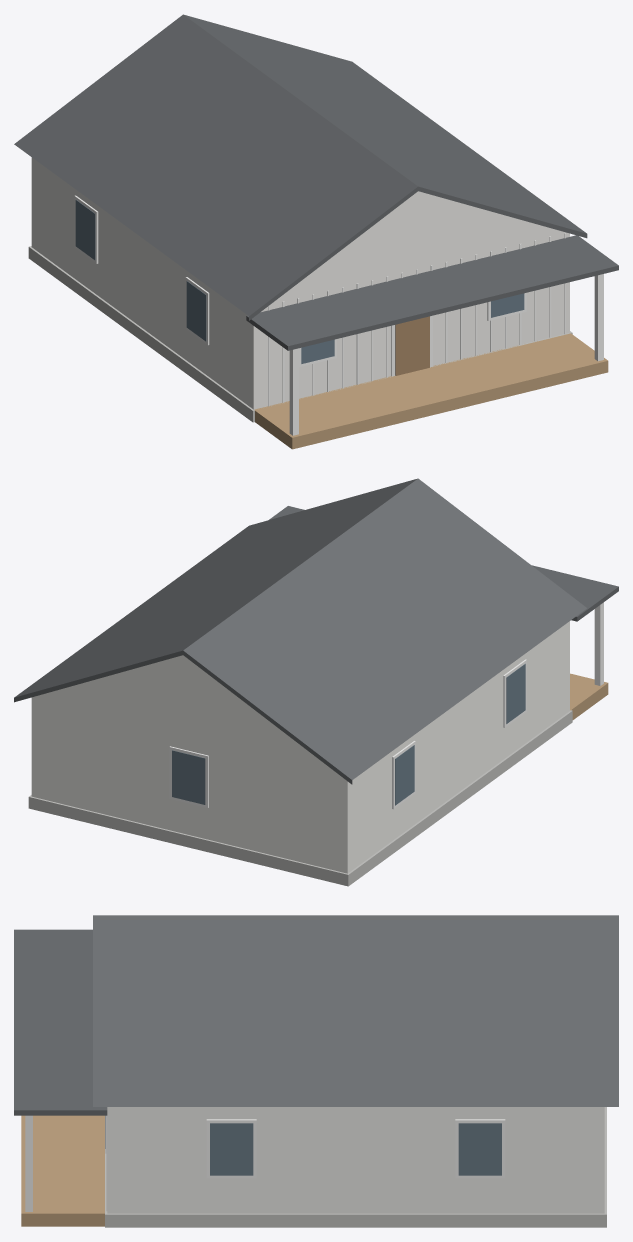
The model's file is two-bed-two-bath-farmhouse.glb.
3 renders of one model, top to bottom at view 1: azimuth 30°, elevation 25°; view 2: azimuth 150°, elevation 25°; view 3: azimuth 270°, elevation 25°, orthographic. The views are drawn at different scales.
Visible parts, largest first — view 1: The Delta (farmhouse); view 2: The Delta (farmhouse); view 3: The Delta (farmhouse).
Boxes of the visible parts, x1,y1,x2,y2 form: The Delta (farmhouse): (14,14,618,449); The Delta (farmhouse): (14,478,618,886); The Delta (farmhouse): (14,915,618,1227).
Size of the model in its own units: 9.13 by 5.18 by 12.64.
